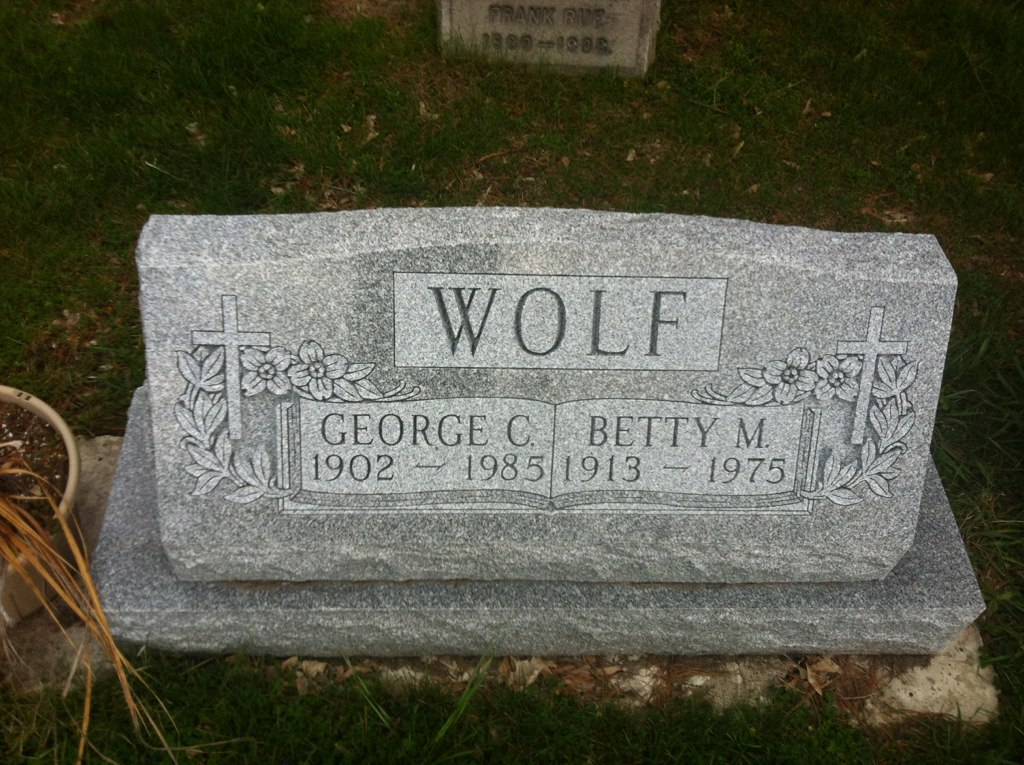upright: (82, 165, 989, 682)
